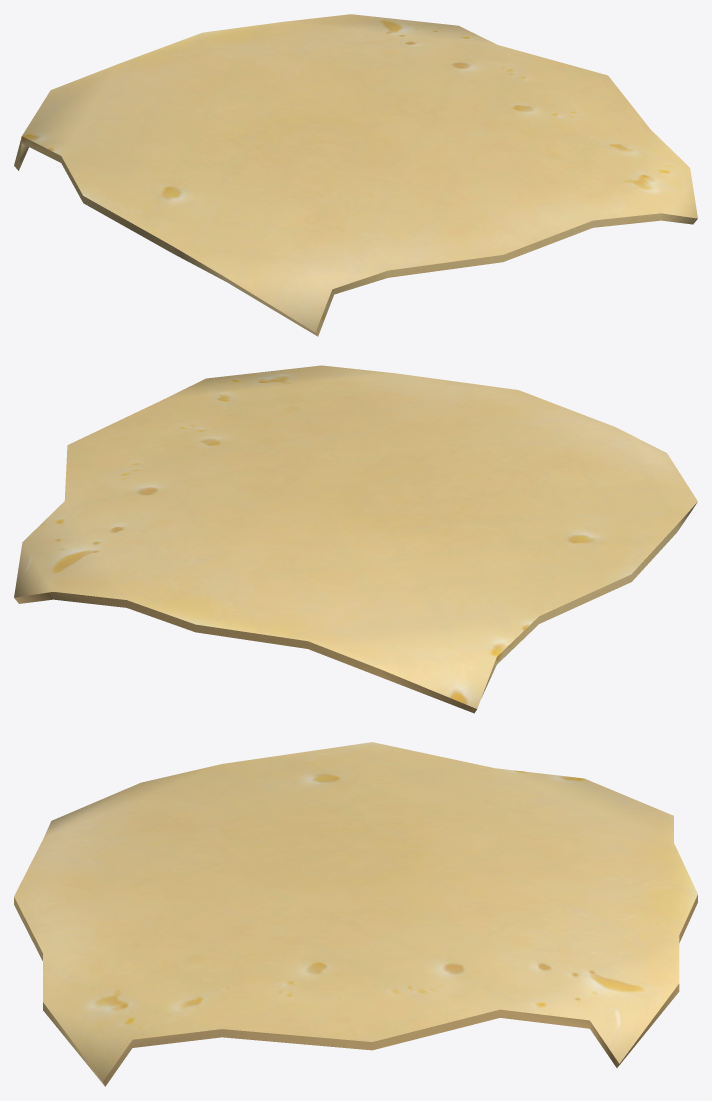
The model's file is cheese (2).FBX.
3 renders of one model, top to bottom at view 1: azimuth 30°, elevation 25°; view 2: azimuth 150°, elevation 25°; view 3: azimuth 270°, elevation 25°, orthographic. The views are drawn at different scales.
Parts seen in each view (by area): view 1: cheese_LOD00; view 2: cheese_LOD00; view 3: cheese_LOD00.
Boxes of the visible parts, <box> form: cheese_LOD00: <box>14,14,697,336</box>; cheese_LOD00: <box>14,365,697,713</box>; cheese_LOD00: <box>14,742,697,1086</box>.
Size of what is drawn, in the model's own units: 12.9 by 1.65 by 12.81.
1 material, 1 textured.
